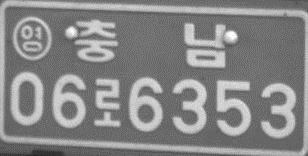0: (8, 70, 45, 128)
3: (171, 78, 208, 136), (259, 81, 296, 139)
5: (215, 79, 251, 138)
6: (50, 73, 86, 131), (127, 75, 163, 133)
로: (93, 78, 121, 128)
영: (11, 15, 52, 61)
충남_D: (72, 18, 227, 67)
